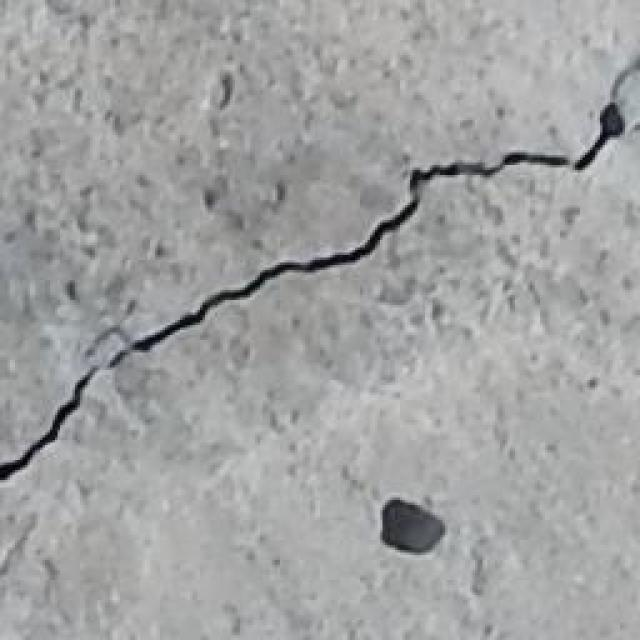concrete-crack: (0, 51, 640, 489), (380, 498, 448, 560)
